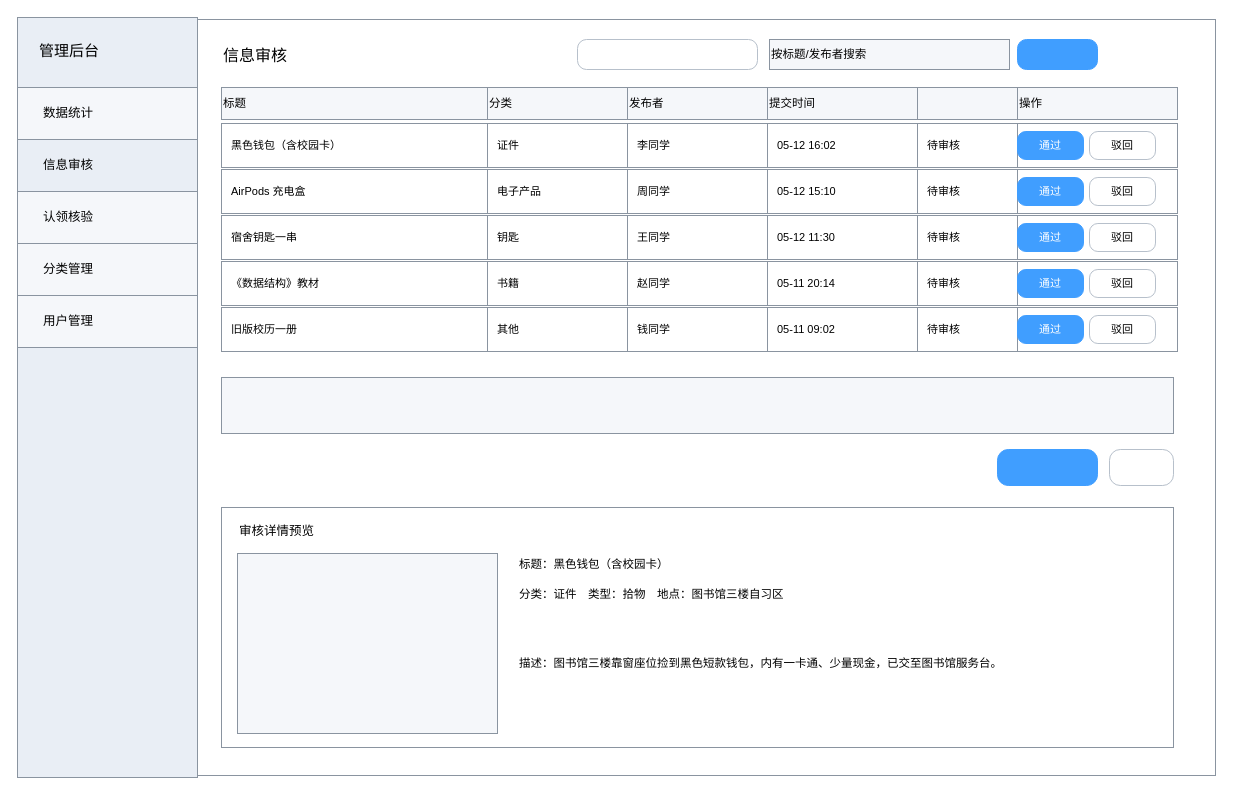
Image size: 1233x795. Some labels were removed from this diagram. Here are the shapes that lost their labels. From the top down, the centre of each, then its label:
At [667,54]: "全部状态（下拉）".
At [1057,54]: "查询".
At [967,103]: "状态".
At [697,405]: "驳回原因：内容与分类不符 / 描述过于简单 / 涉嫌虚假信息（不超过 100 字）…".
At [1047,467]: "确认驳回".
At [1141,467]: "取消".
At [367,643]: "图片预览".
